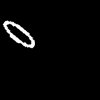chain: (3, 21, 34, 47)
